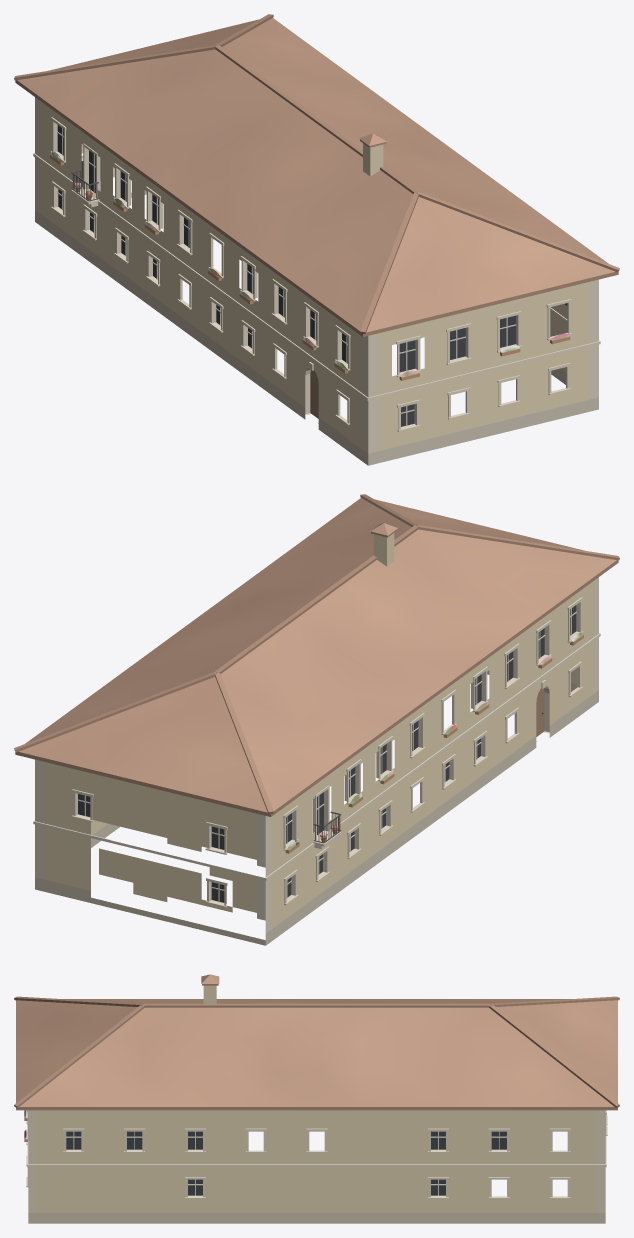
The model's file is SM_BM_BE_0_Villa.glb.
The picture shows the model from 3 angles, top to bottom: view 1: azimuth 30°, elevation 25°; view 2: azimuth 150°, elevation 25°; view 3: azimuth 270°, elevation 25°; orthographic projection. The views are drawn at different scales.
Parts seen in each view (by area): view 1: SM_BM_BE_0_Villa; view 2: SM_BM_BE_0_Villa; view 3: SM_BM_BE_0_Villa.
Part boxes in pixels (x1=…): SM_BM_BE_0_Villa: x1=14, y1=14, x2=619, y2=465; SM_BM_BE_0_Villa: x1=14, y1=494, x2=619, y2=945; SM_BM_BE_0_Villa: x1=14, y1=974, x2=619, y2=1223.
Size of the model in its own units: 14.62 by 12.3 by 34.12.
